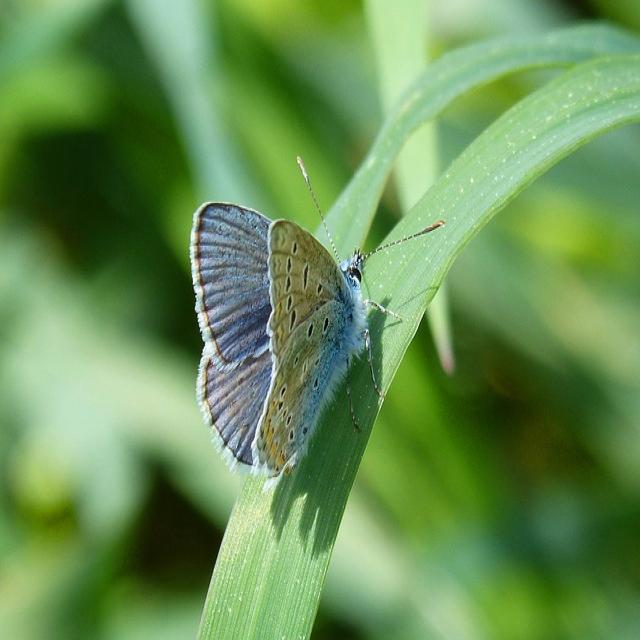butterfly: (190, 203, 368, 486)
